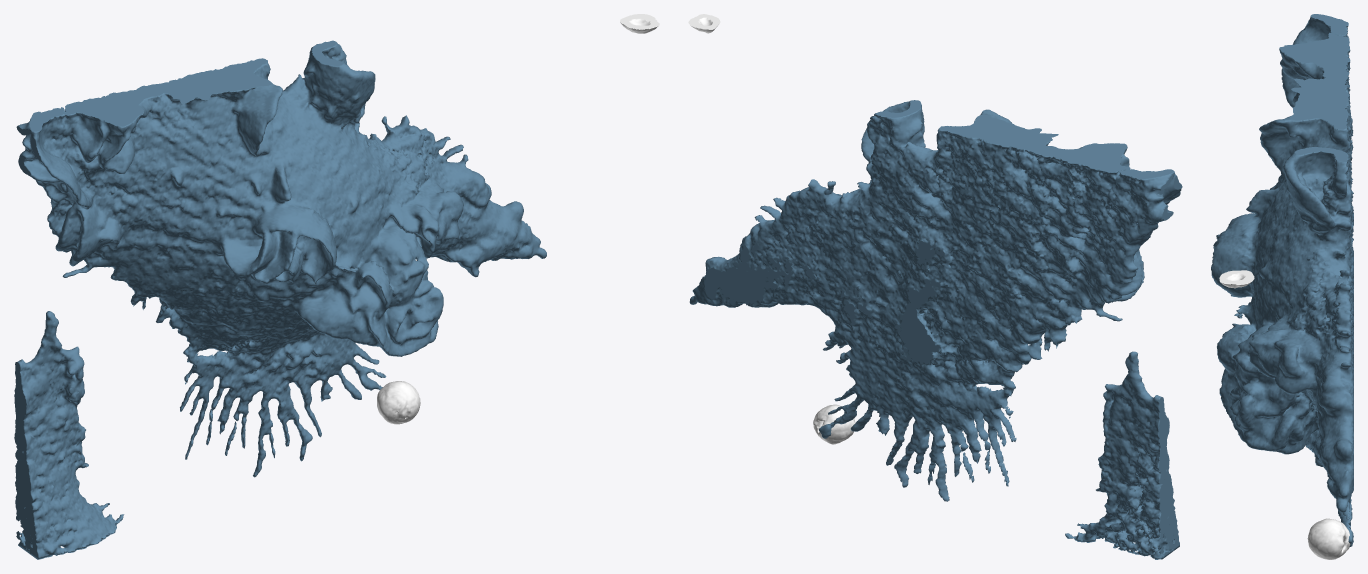
3 views of the same model, side by side, from view 1: azimuth 30°, elevation 25°; view 2: azimuth 150°, elevation 25°; view 3: azimuth 270°, elevation 25° (orthographic). The views are drawn at different scales.
Parts seen in each view (by area): view 1: surface (×2); view 2: surface (×2); view 3: surface (×2).
Boxes of the visible parts, x1,y1,x2,y2 form: surface (×2): (14,14,659,559); surface (×2): (688,14,1182,559); surface (×2): (1211,14,1353,559).
Size of the model in its own units: 626 by 436 by 139.
